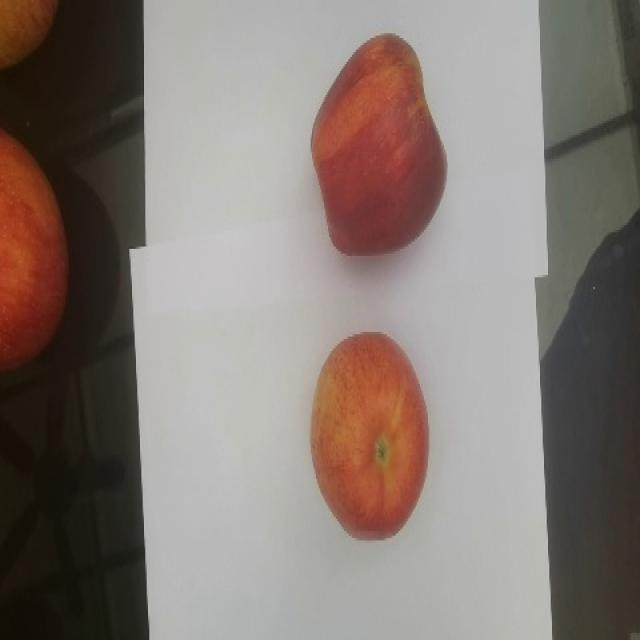Apple: (310, 31, 447, 257), (309, 330, 429, 540), (0, 127, 70, 372), (0, 0, 59, 70)
